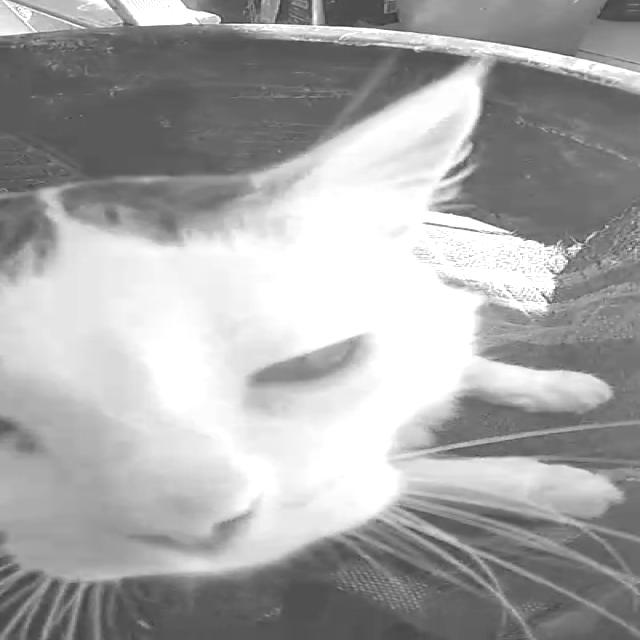Simba: (0, 27, 629, 633)
